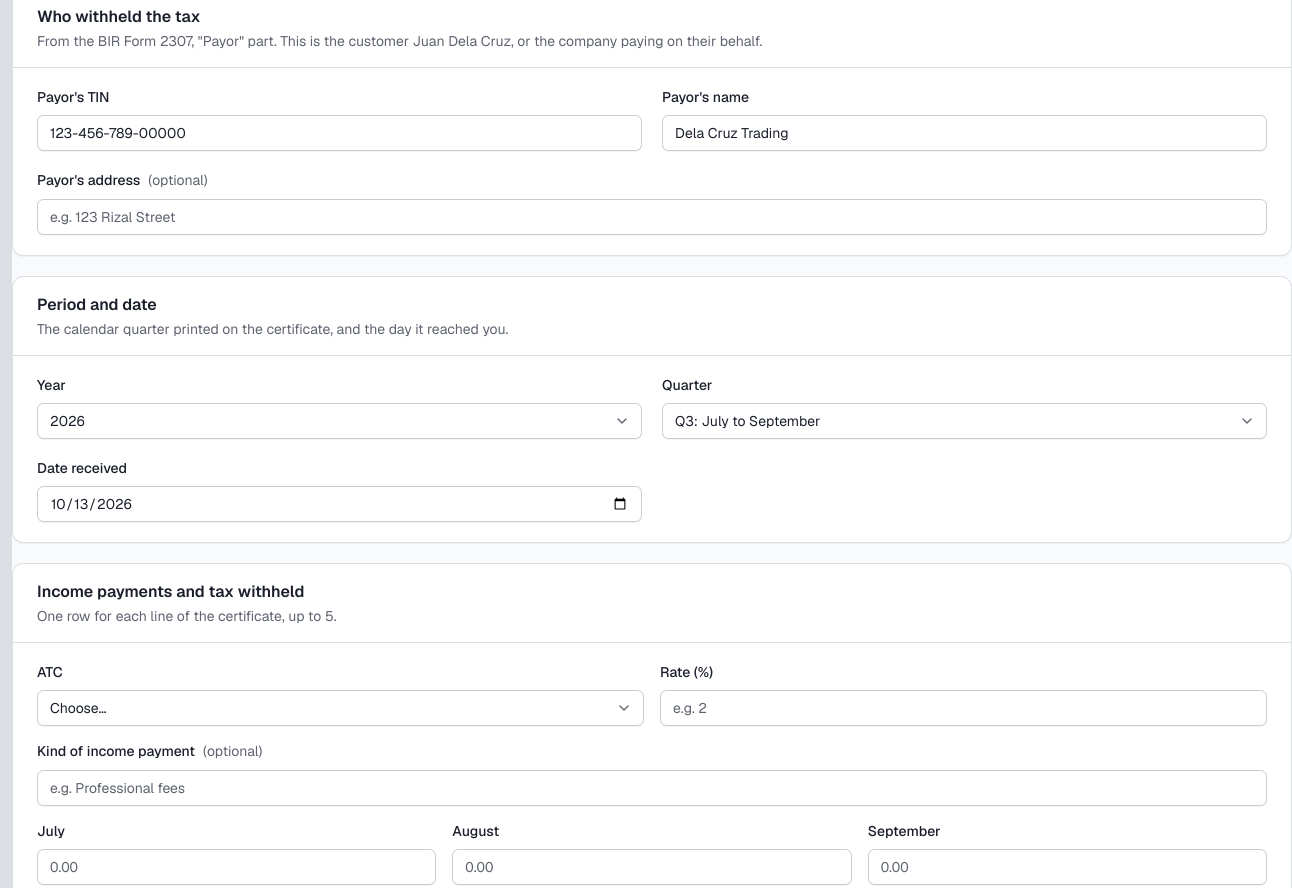
Test: the payments it covers › compares the form's tax with the ticked payments as you go
Select "WI160 (2%)" in the dropdown labelled "ATC" at (340, 708), box [37, 690, 644, 726]
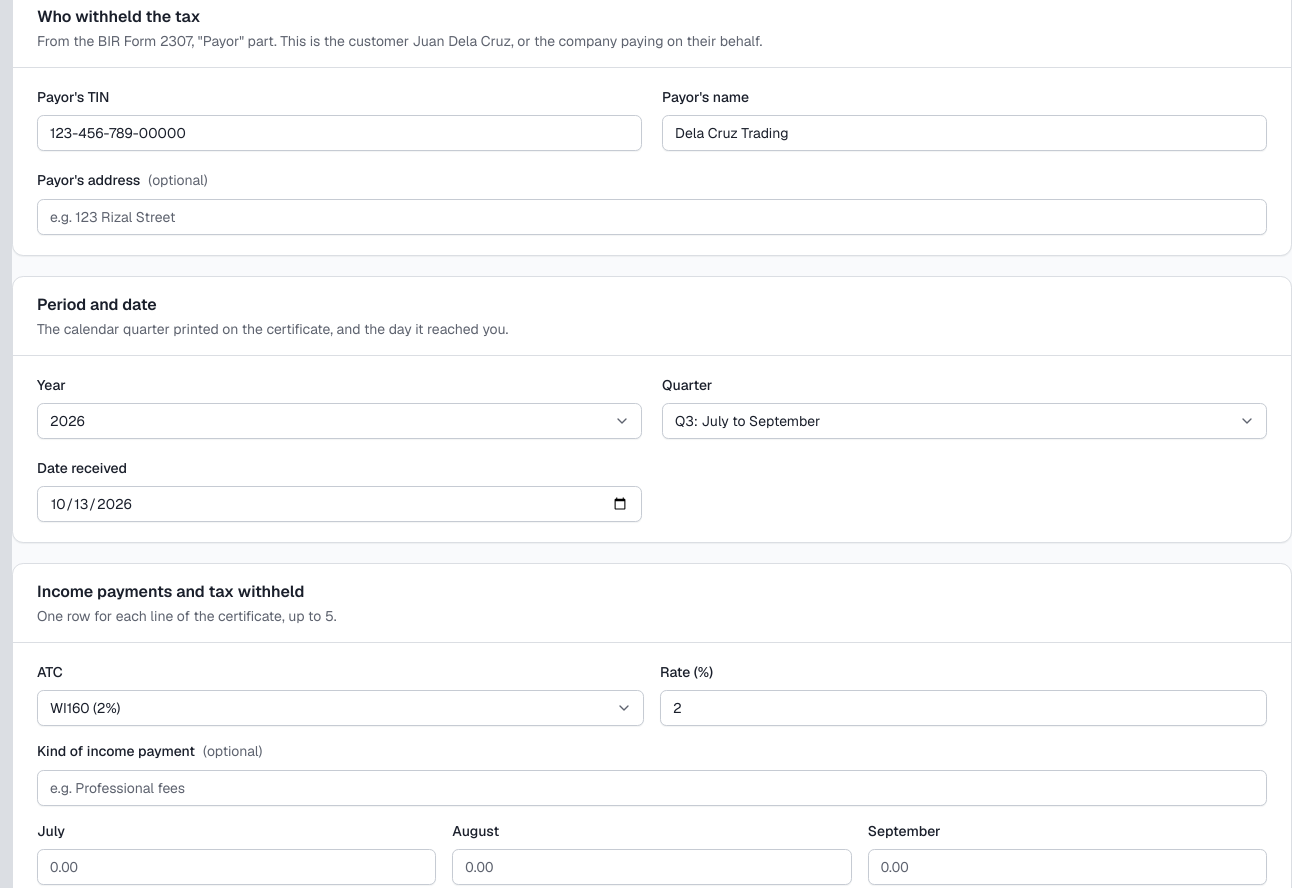
Type "1,500" into the field labelled "August" at (652, 867), box [452, 849, 852, 885]
(page scrolled)
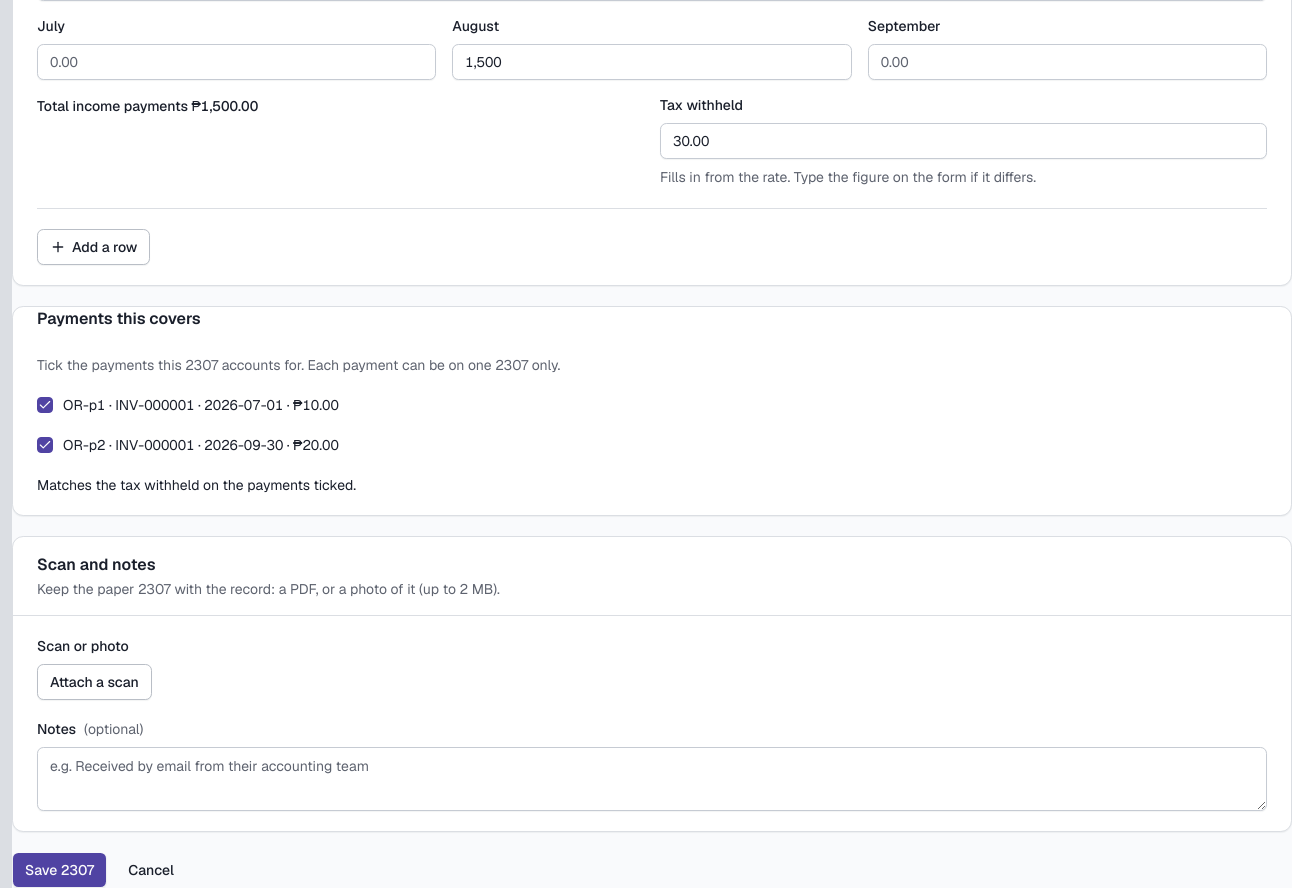
expect the message named "Comparison with payments" shows "Matches": met, box [37, 476, 356, 494]
Click the checkbox named "OR-p2" at (45, 445), box [37, 437, 53, 453]
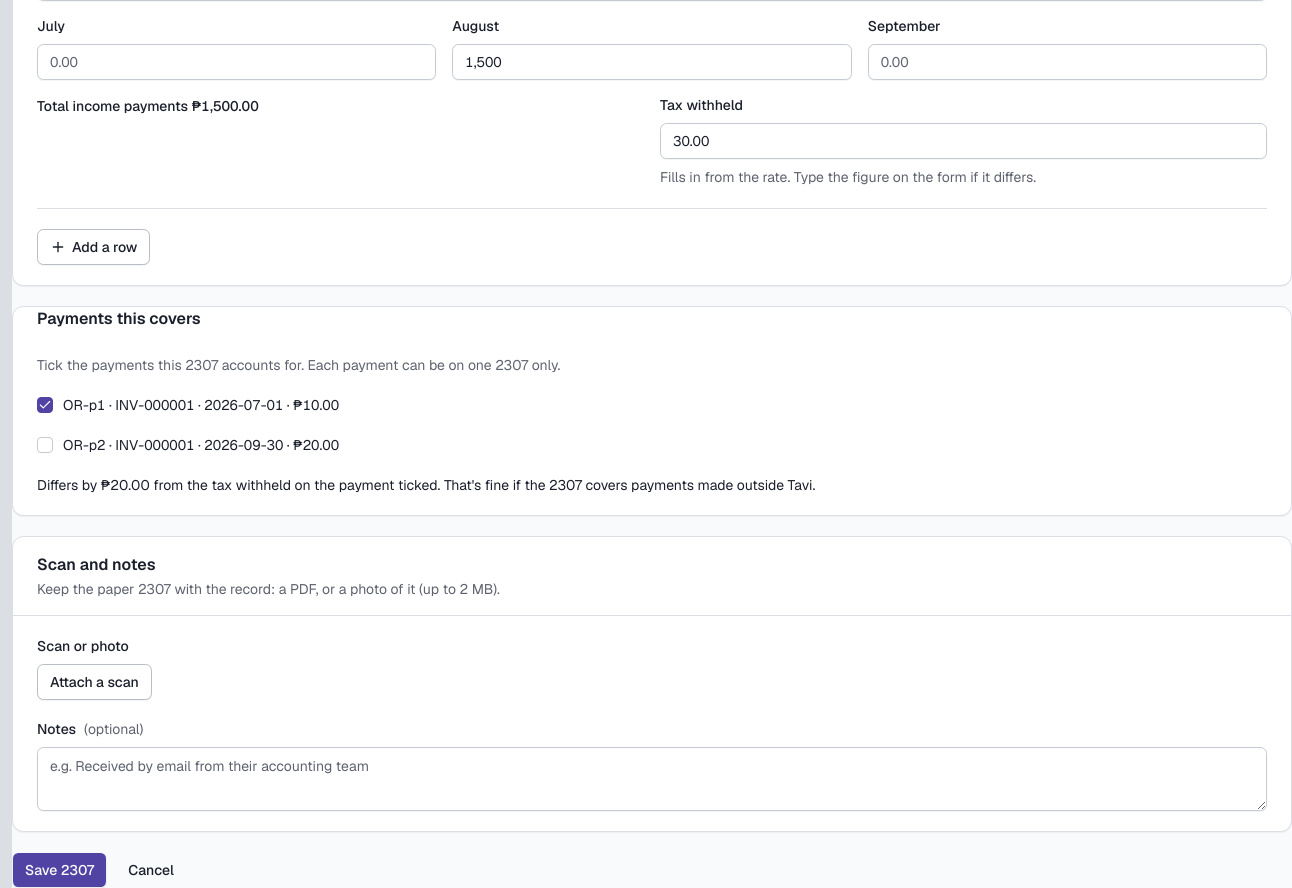
expect the message named "Comparison with payments" shows "Differs by ₱20.00": met, box [37, 476, 815, 494]
